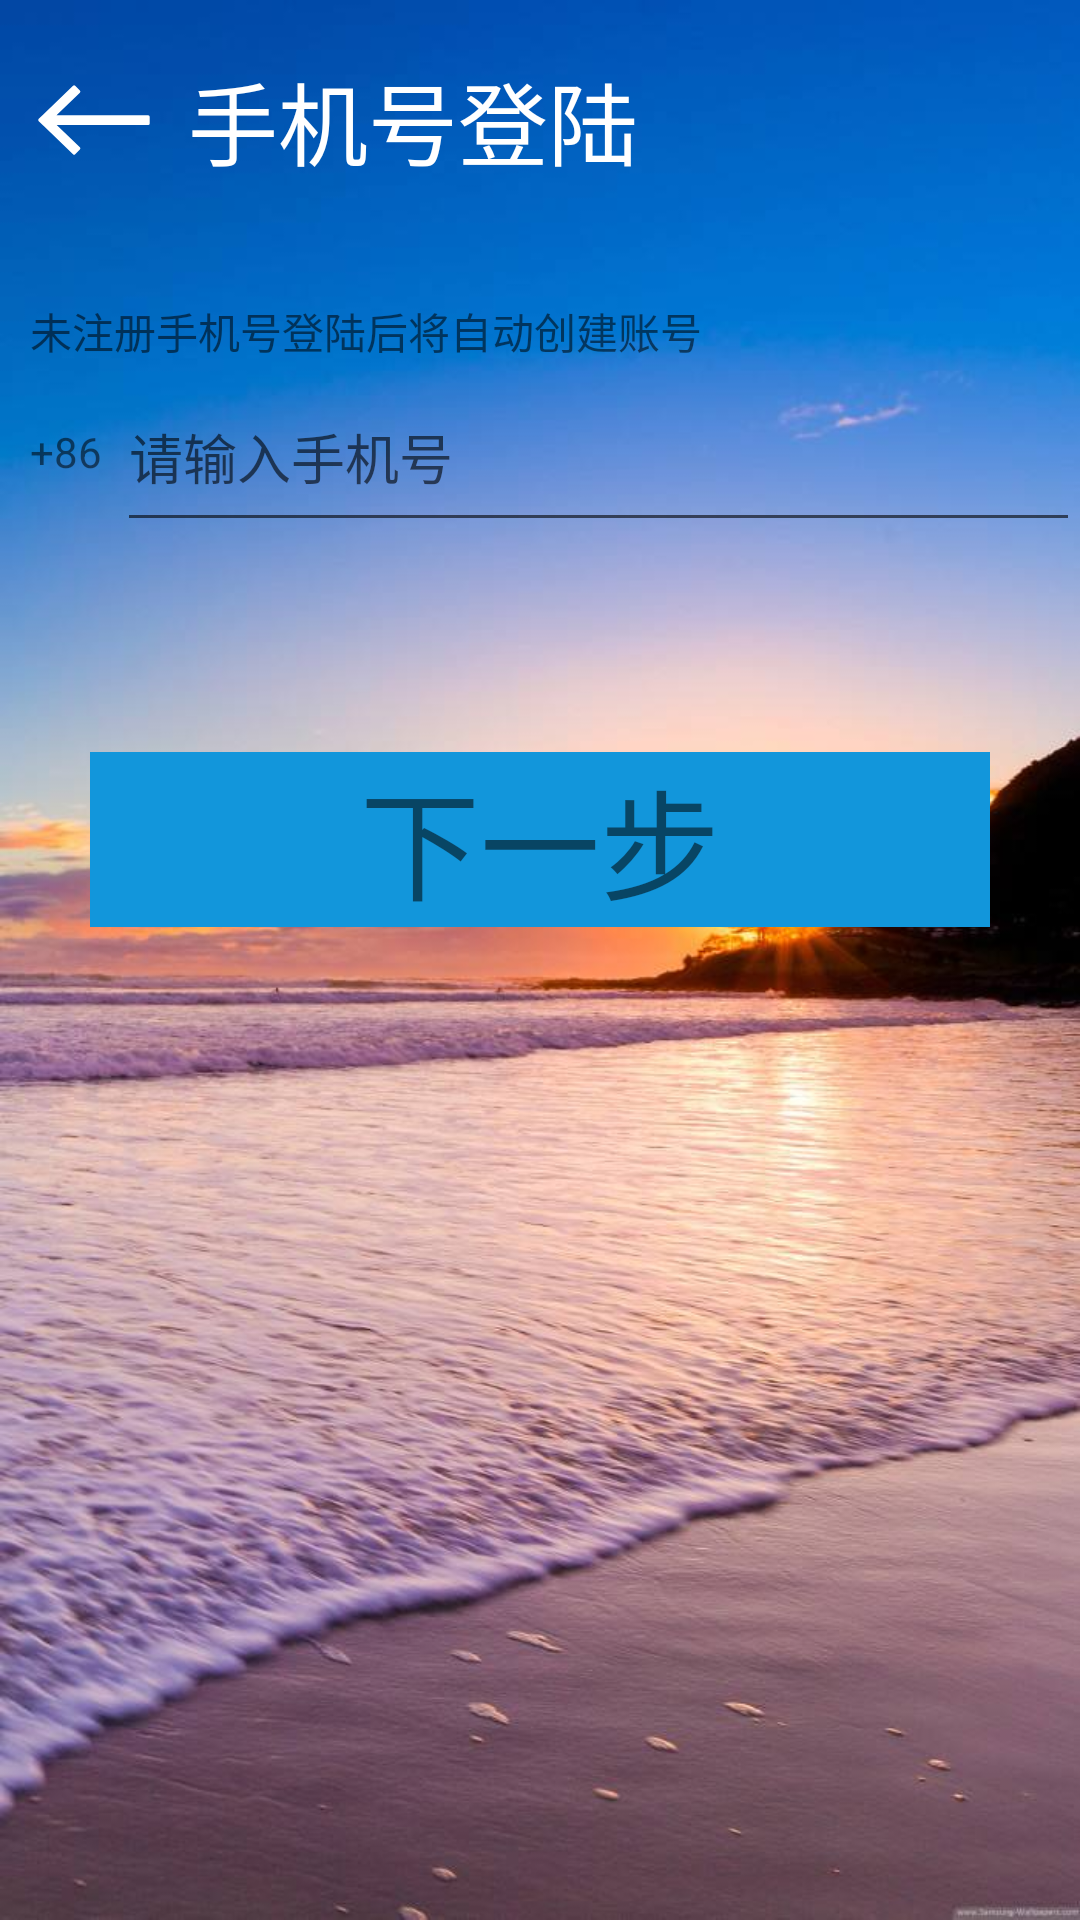

Point at icon controls on the screen. Image size 1080*1920, points as point (x, y).
back: point (94, 120)
